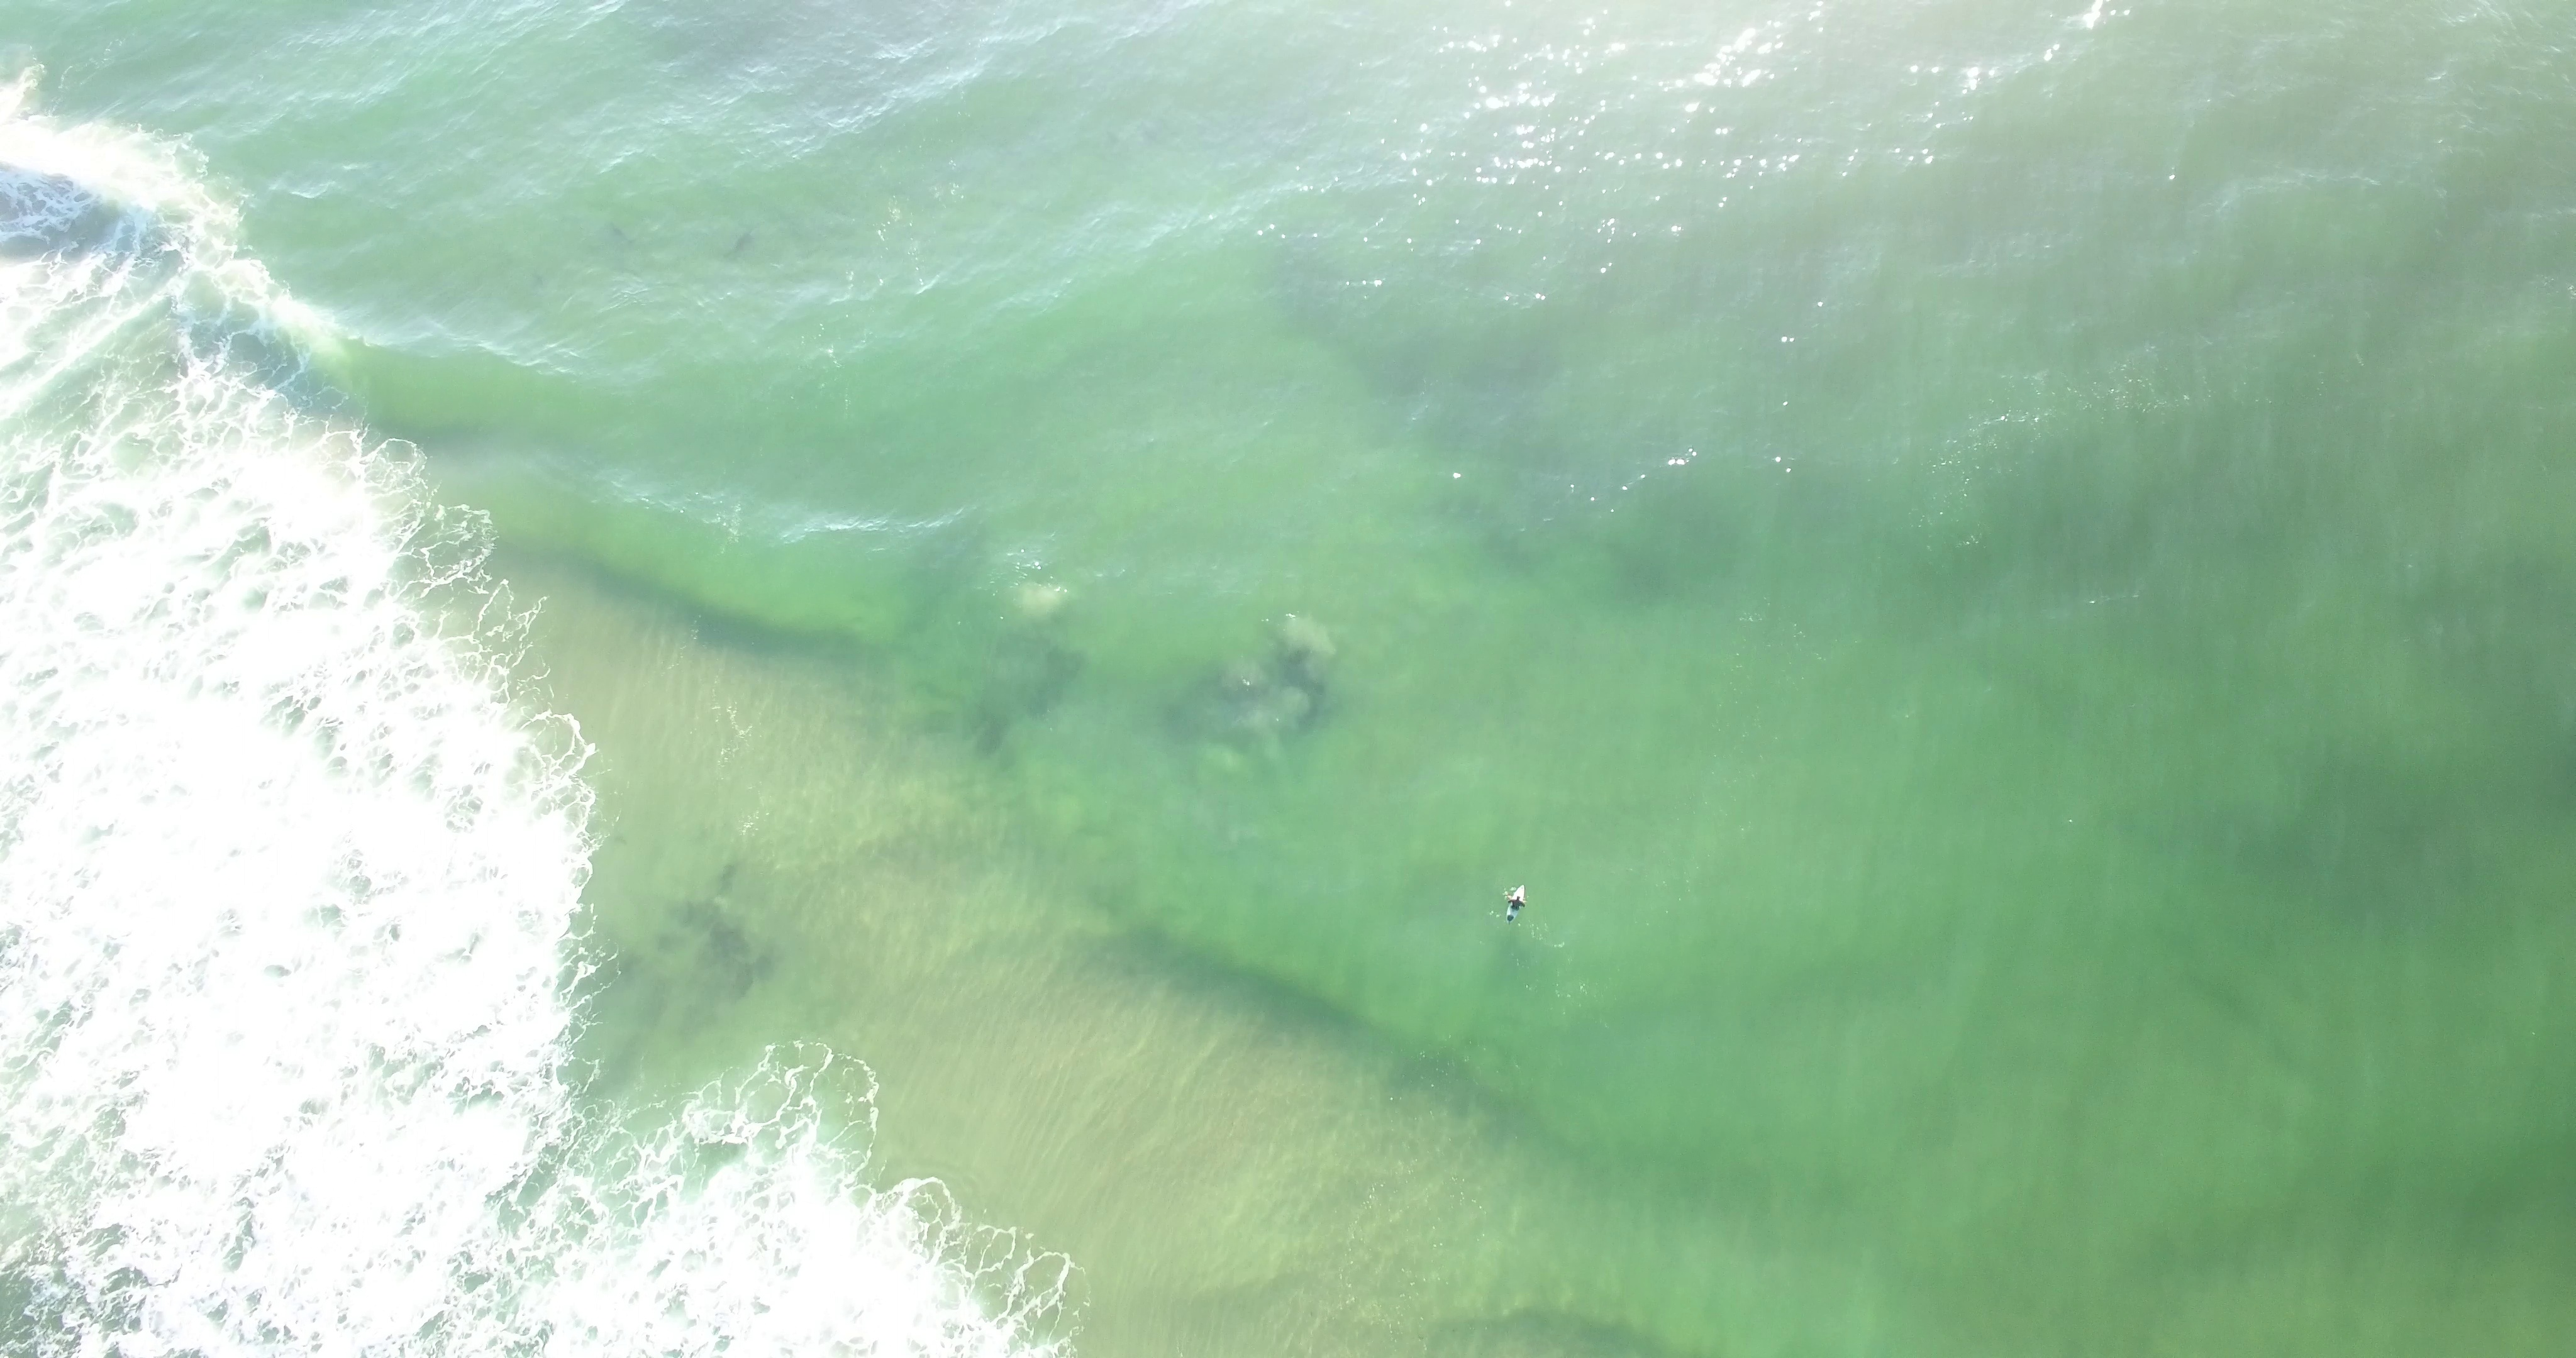dolphin: (727, 227, 758, 257)
surfer: (1504, 883, 1527, 925)
